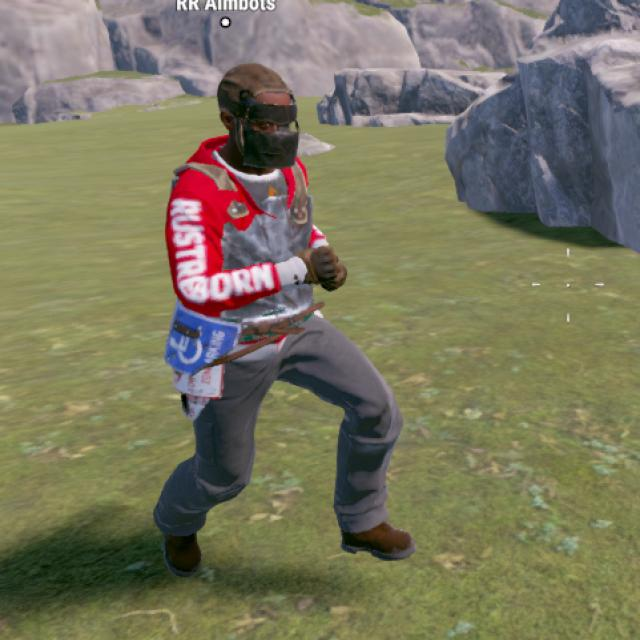Player: (156, 63, 412, 572)
